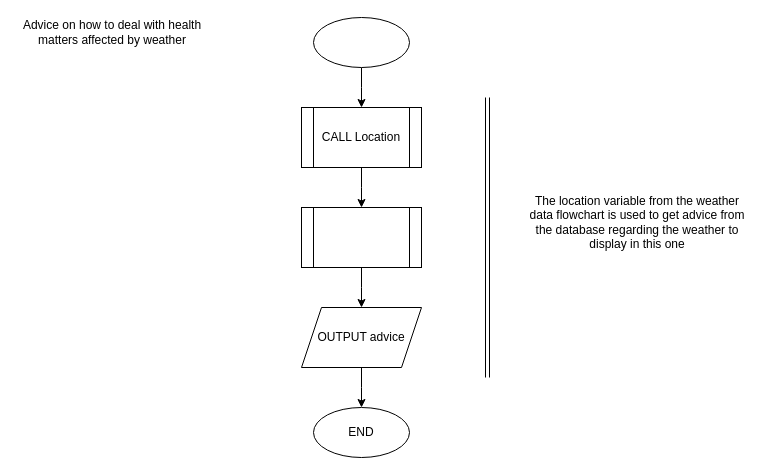
Some shapes in this 764 by 475 pixel diagram are drawn without their labels. The shapes that lost their labels are listed below. From the top down, each one's centre as x and y in pixels, then its label:
the point at 361,42: Start
the point at 361,237: QUERY get advice(location_health_advice)
